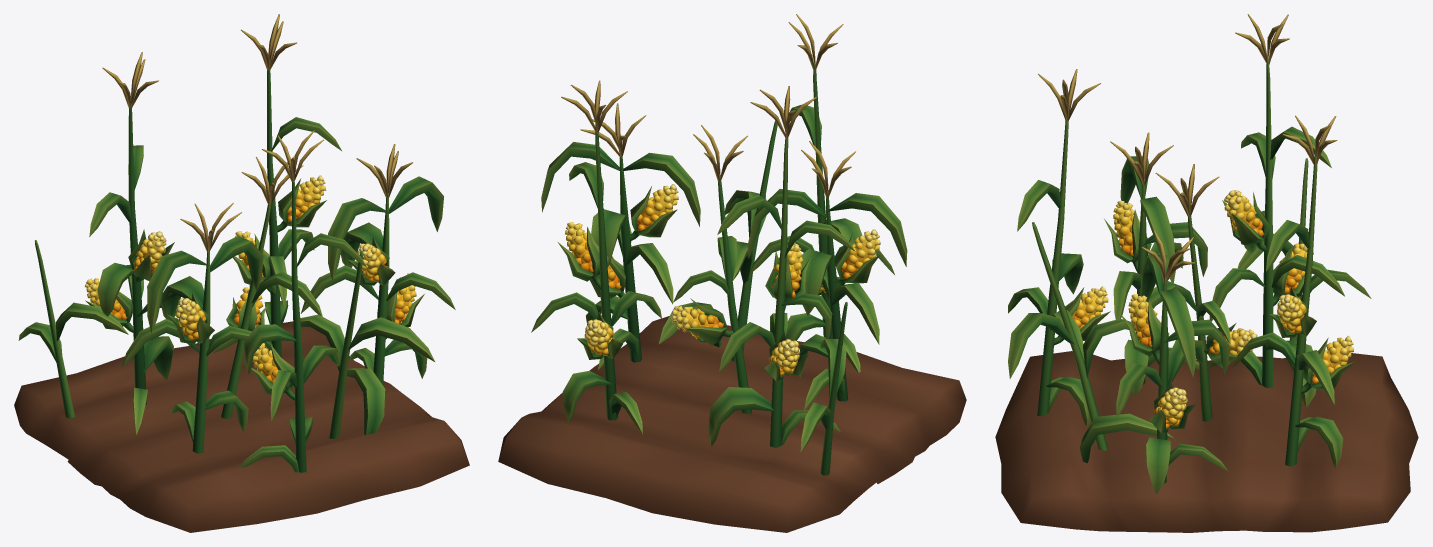
The model's file is SM_PlantSoil_Corn_Lv4.fbx.
3 views of the same model, side by side, from view 1: azimuth 30°, elevation 25°; view 2: azimuth 150°, elevation 25°; view 3: azimuth 270°, elevation 25° (orthographic). The views are drawn at different scales.
Visible parts, largest first — view 1: SM_PlantSoil_Corn_Lv4; view 2: SM_PlantSoil_Corn_Lv4; view 3: SM_PlantSoil_Corn_Lv4.
Boxes of the visible parts, x1,y1,x2,y2 form: SM_PlantSoil_Corn_Lv4: (14,14,469,532); SM_PlantSoil_Corn_Lv4: (498,14,966,532); SM_PlantSoil_Corn_Lv4: (995,14,1418,532).
Bounding box in the file's own units: 105 × 110 × 103.
